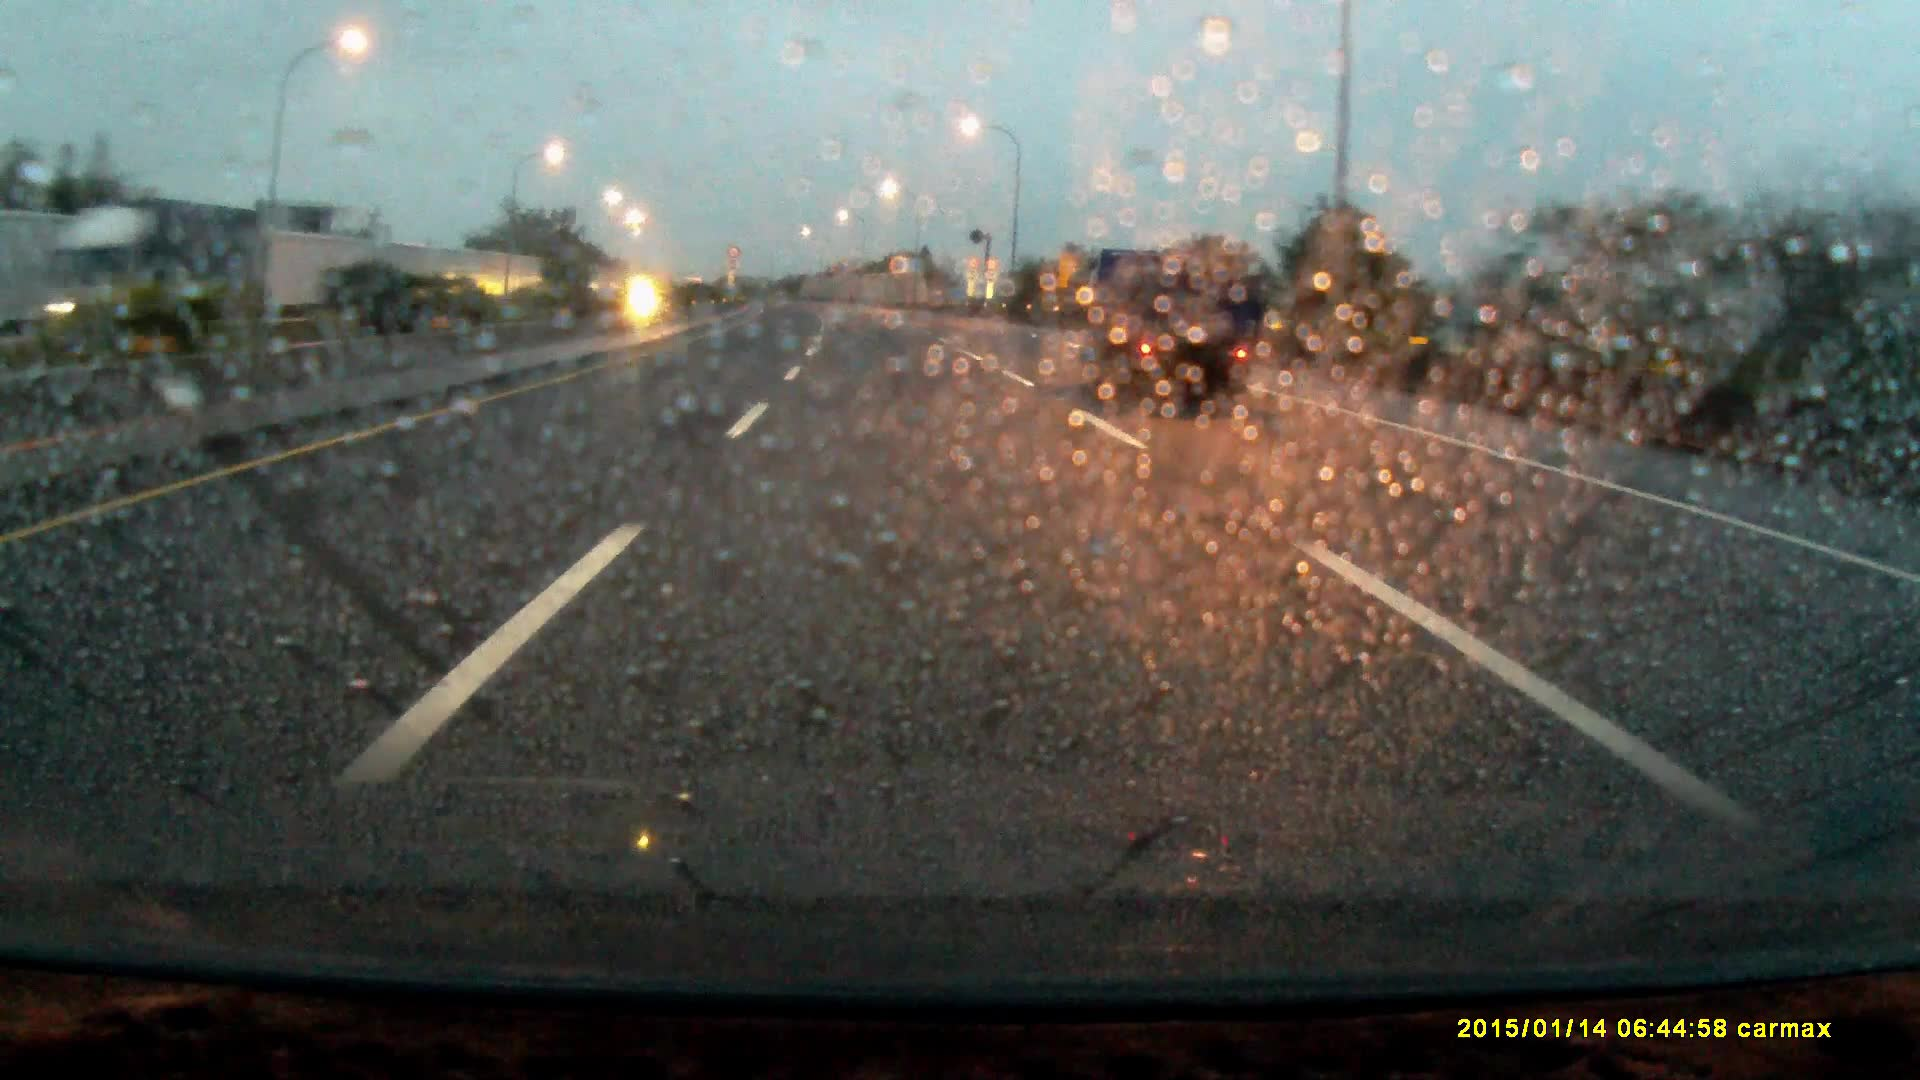vehicle: (1075, 247, 1247, 407), (92, 200, 243, 335)
